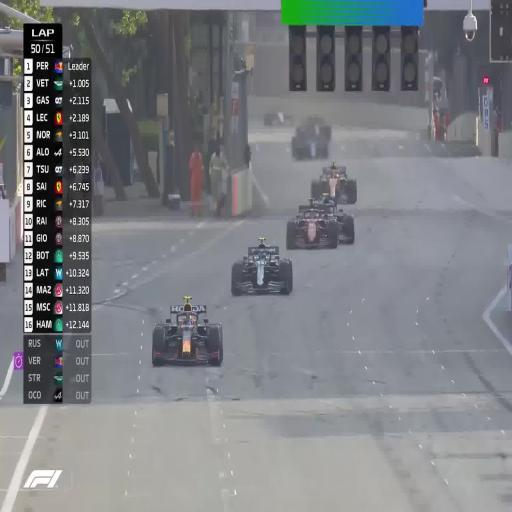f1_car: (151, 296, 223, 366), (231, 237, 293, 295), (286, 197, 355, 248), (299, 193, 355, 244), (310, 162, 357, 204), (291, 117, 331, 160), (266, 103, 296, 129)
